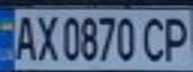0: (115, 14, 142, 63), (60, 12, 81, 62)
7: (97, 14, 118, 62)
8: (78, 12, 100, 62)
A: (9, 11, 39, 62)
C: (139, 14, 172, 63)
P: (160, 12, 193, 63)
X: (33, 11, 60, 62)
